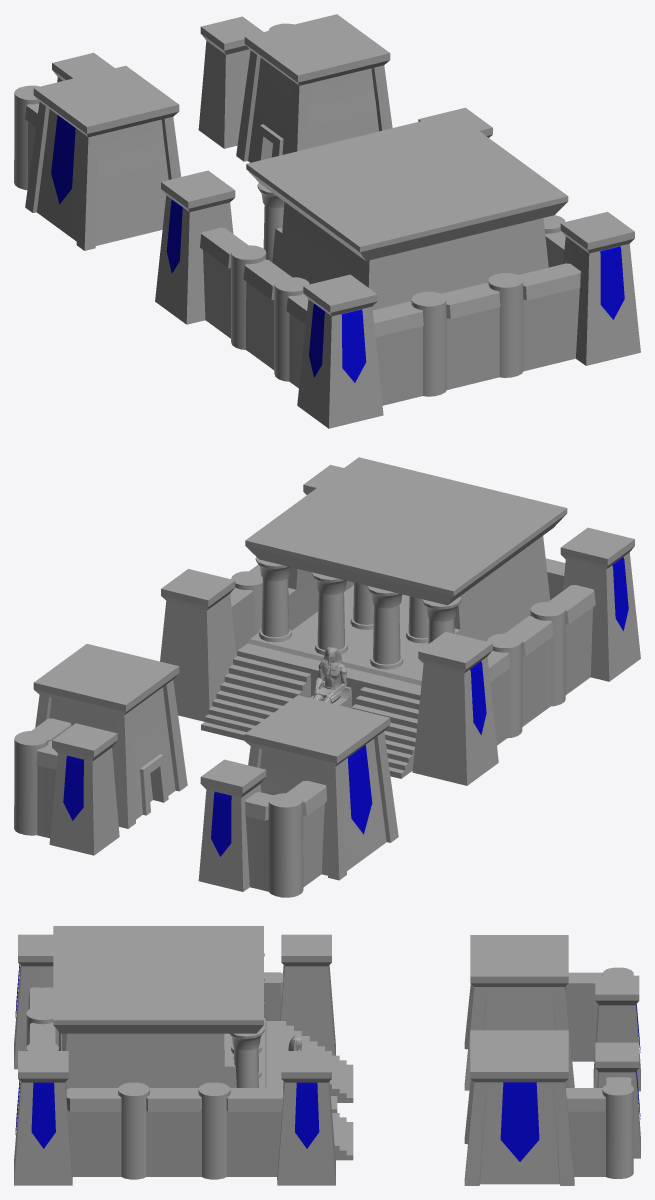
Rendered from newKeep4.fbx.
3 renders of one model, top to bottom at view 1: azimuth 30°, elevation 25°; view 2: azimuth 150°, elevation 25°; view 3: azimuth 270°, elevation 25°, orthographic. The views are drawn at different scales.
Parts seen in each view (by area): view 1: finalKeep4, FlagModels; view 2: finalKeep4, FlagModels; view 3: finalKeep4, FlagModels.
Part boxes in pixels (<box>): finalKeep4: <box>14,14,640,428</box>; FlagModels: <box>51,115,624,382</box>; finalKeep4: <box>14,457,640,897</box>; FlagModels: <box>63,557,628,856</box>; finalKeep4: <box>14,926,640,1185</box>; FlagModels: <box>15,964,640,1161</box>.
Bounding box in the file's own units: 437 × 204 × 816.
